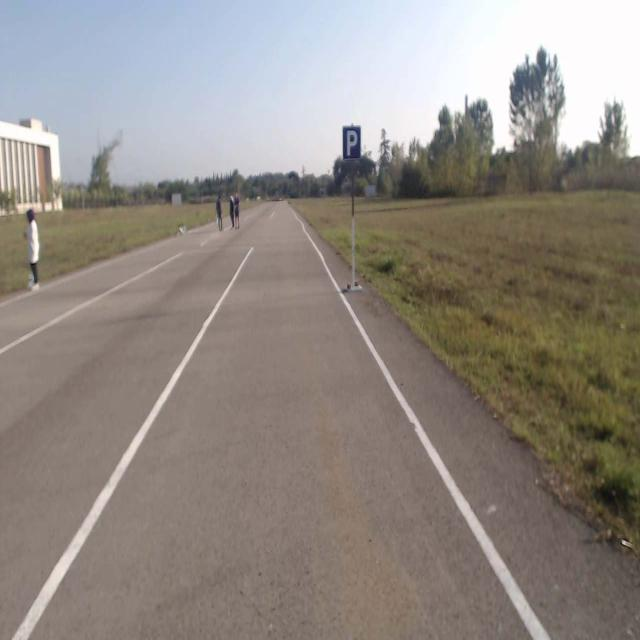park: (343, 126, 359, 158)
